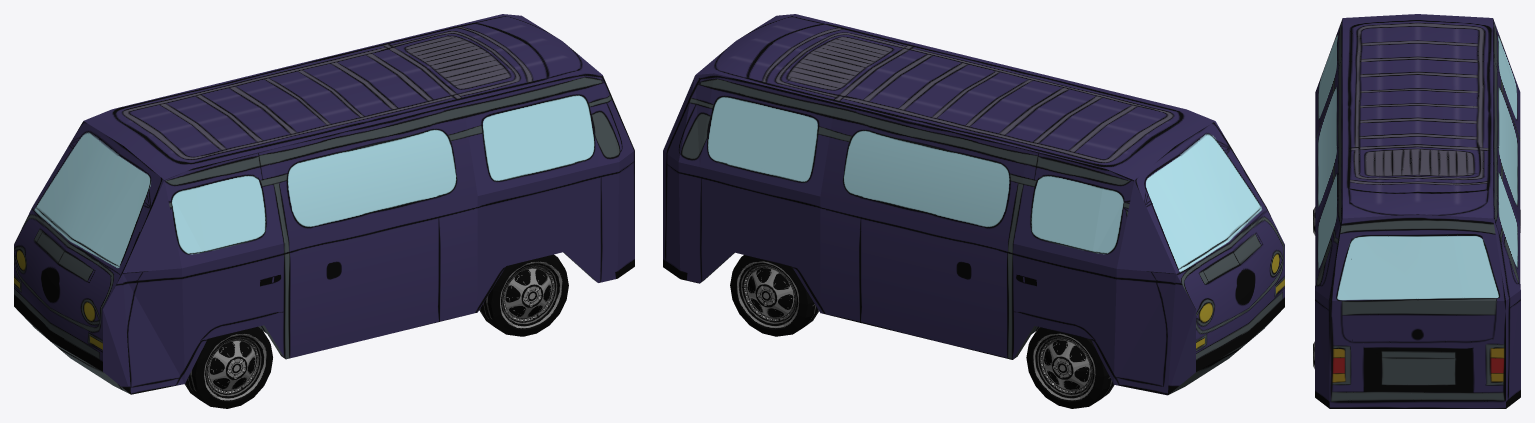
Rendered from Van.fbx.
The picture shows the model from 3 angles, left to right: view 1: azimuth 30°, elevation 25°; view 2: azimuth 150°, elevation 25°; view 3: azimuth 270°, elevation 25°; orthographic projection. The views are drawn at different scales.
Visible parts, largest first — view 1: Plane003; view 2: Plane003; view 3: Plane003.
Boxes of the visible parts, x1,y1,x2,y2 form: Plane003: [14, 14, 634, 408]; Plane003: [663, 14, 1284, 408]; Plane003: [1313, 14, 1520, 408].
Size of the model in its own units: 34.13 by 14.71 by 12.31.
